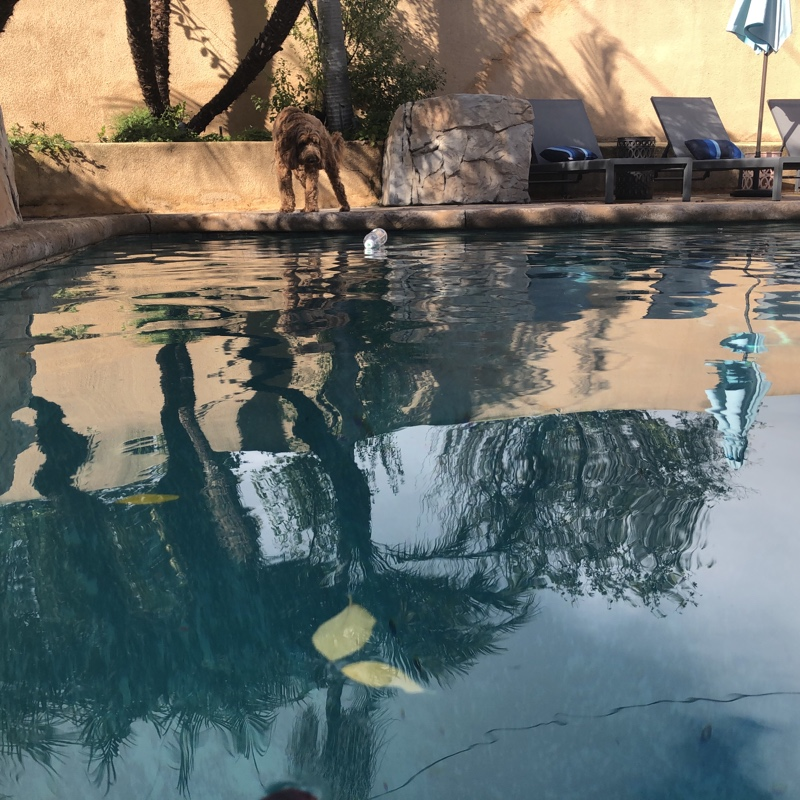Plastic Bottle: (360, 226, 388, 250)
